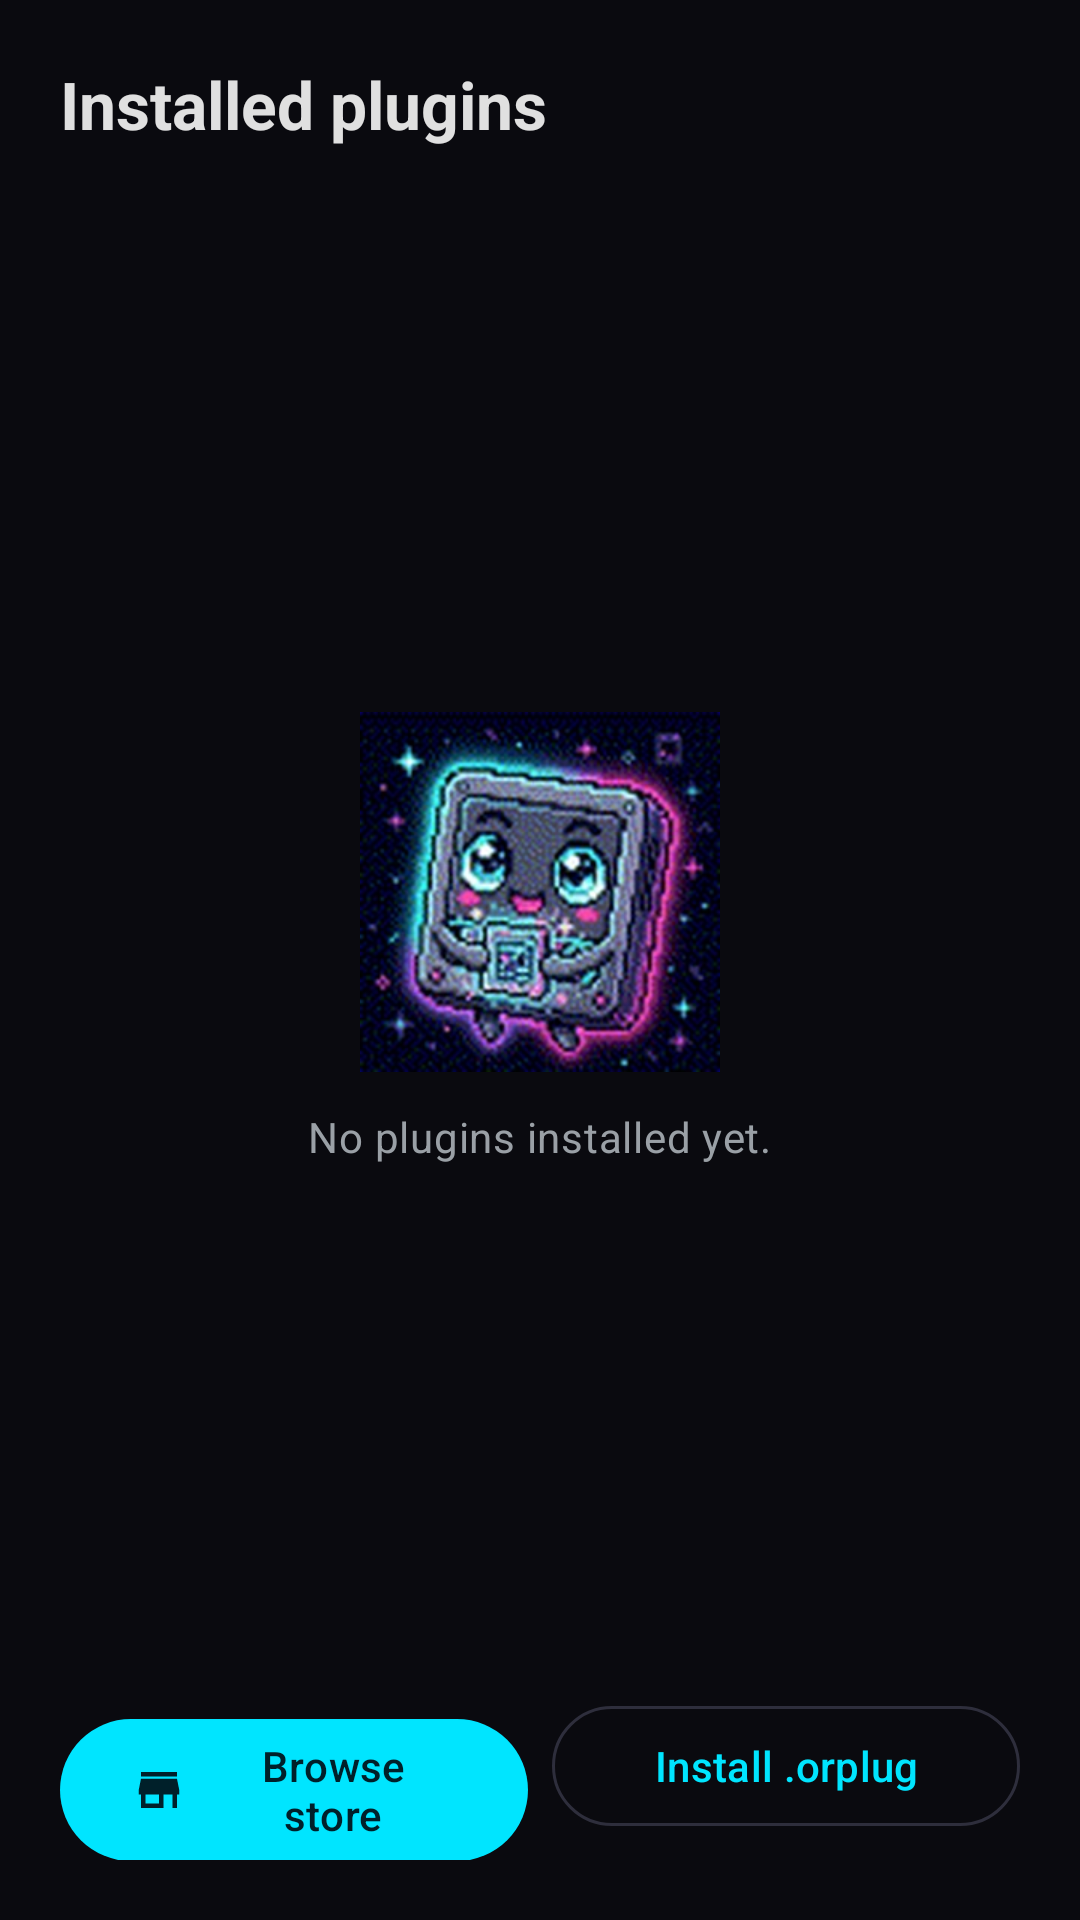

Named icons in this screenshot (1080px x 1920px) and their bounding boxes, (x1, y1, x2, y2):
ROMeo, the OpenROM mascot: (360, 712, 720, 1072)
